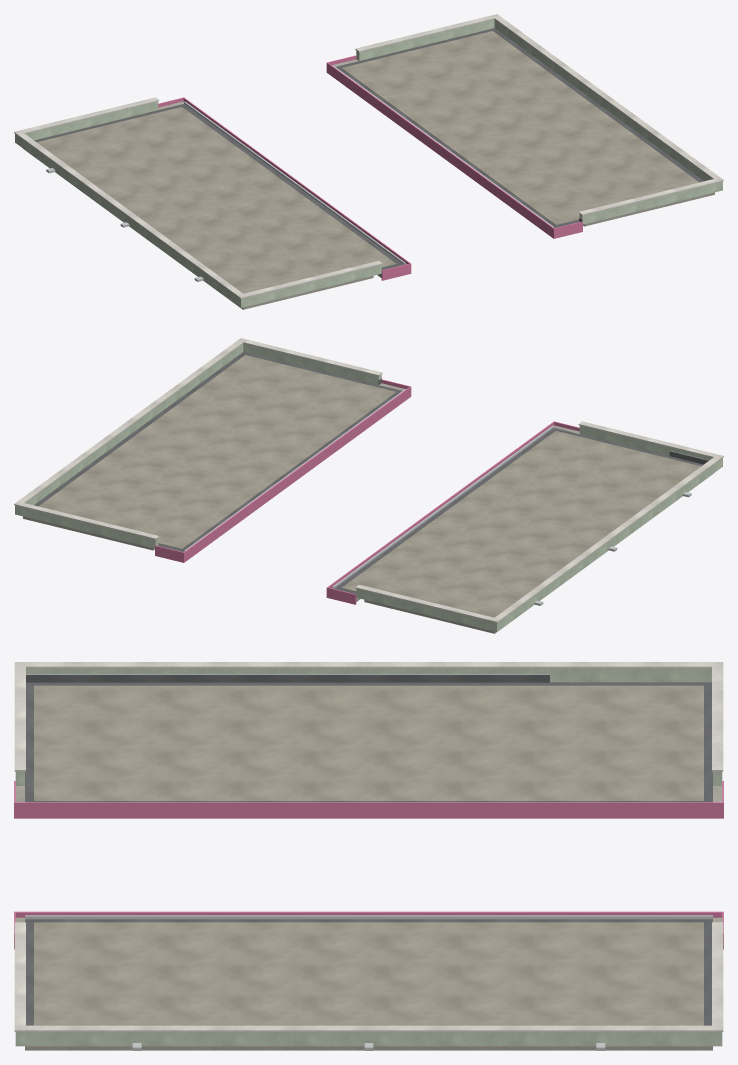
Rendered from roof.glb.
3 renders of one model, top to bottom at view 1: azimuth 30°, elevation 25°; view 2: azimuth 150°, elevation 25°; view 3: azimuth 270°, elevation 25°, orthographic. The views are drawn at different scales.
Parts seen in each view (by area): view 1: roof_gravel, roof_stucco, roof_coping, roof_accent, roof_membrane, roof_galv, roof_conc_s; view 2: roof_gravel, roof_stucco, roof_coping, roof_accent, roof_membrane, roof_galv, roof_conc_s; view 3: roof_gravel, roof_stucco, roof_accent, roof_coping, roof_membrane, roof_galv, roof_conc_s, roof_ceil.
Part boxes in pixels (x1,y1,x2,y2): roof_gravel: (37, 31, 699, 293); roof_stucco: (15, 19, 722, 307); roof_coping: (14, 14, 723, 298); roof_accent: (158, 55, 582, 280); roof_membrane: (34, 28, 703, 270); roof_galv: (46, 65, 582, 281); roof_conc_s: (27, 59, 714, 309); roof_gravel: (38, 355, 700, 617); roof_stucco: (15, 343, 722, 631); roof_coping: (14, 338, 723, 622); roof_accent: (155, 379, 579, 604); roof_membrane: (34, 352, 708, 594); roof_galv: (184, 377, 708, 605); roof_conc_s: (23, 383, 710, 633); roof_gravel: (34, 685, 703, 1025); roof_stucco: (15, 668, 722, 1046); roof_accent: (14, 781, 723, 949); roof_coping: (14, 662, 723, 1031); roof_membrane: (25, 675, 712, 1025); roof_galv: (25, 674, 712, 1050); roof_conc_s: (15, 786, 722, 1050); roof_ceil: (25, 1050, 712, 1050).
Size of the model in its own units: 24.6 by 0.82 by 19.6.
8 materials, 6 textured.
